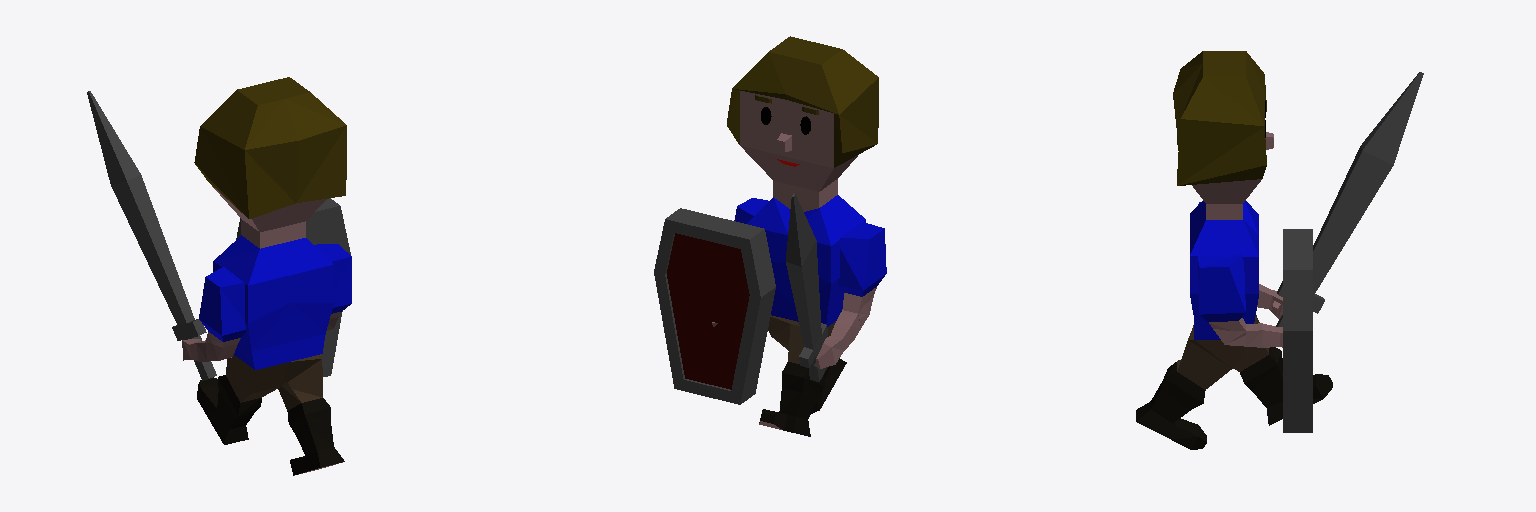
Rendered from character.obj.
3 views of the same model, side by side, from view 1: azimuth 30°, elevation 25°; view 2: azimuth 150°, elevation 25°; view 3: azimuth 270°, elevation 25° (orthographic).
Visible parts, largest first — view 1: Hero, Sword, Shield; view 2: Hero, Shield, Sword; view 3: Hero, Sword, Shield.
Part boxes in pixels (left/top/right/bottom): Hero: left=182, top=77, right=351, bottom=475; Sword: left=87, top=91, right=216, bottom=380; Shield: left=236, top=198, right=350, bottom=376; Hero: left=712, top=36, right=886, bottom=436; Shield: left=654, top=208, right=775, bottom=404; Sword: left=786, top=193, right=827, bottom=381; Hero: left=1136, top=51, right=1332, bottom=449; Sword: left=1276, top=72, right=1423, bottom=326; Shield: left=1283, top=229, right=1312, bottom=432.
Bounding box in the file's own units: 3.64 × 6.69 × 4.65.